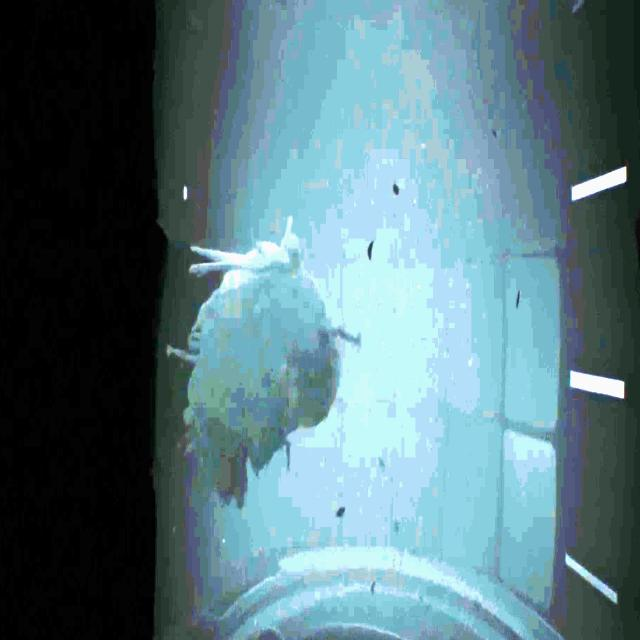blob: (167, 215, 360, 510)
